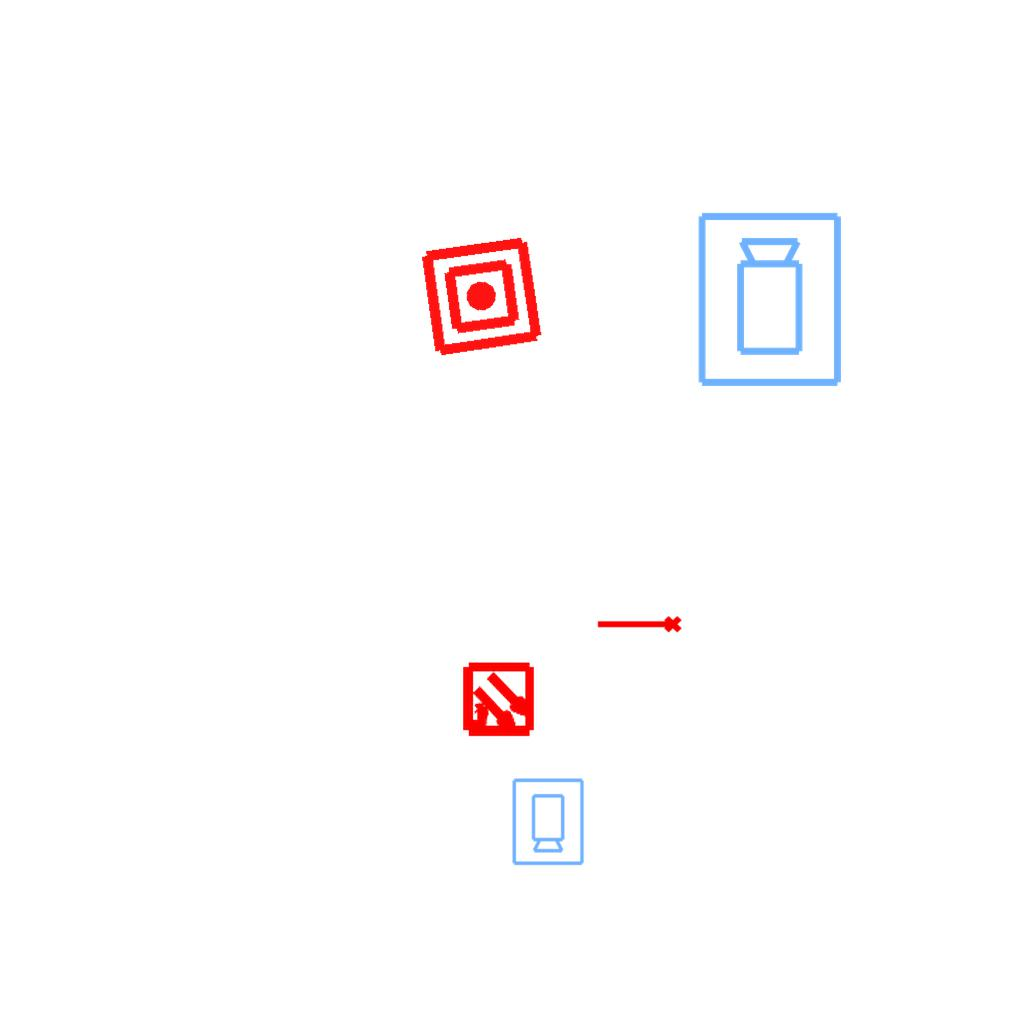ASR_Ansaugoeffnung: (595, 614, 683, 637)
KFO_Kamera_mit_Festobjektiv: (694, 209, 848, 391), (509, 776, 586, 867)
NAM-Nichtautomatischer_Melder: (417, 232, 546, 361)
OT_Multisensormelder_(Kombination_RMO_WMD): (442, 645, 555, 758)
